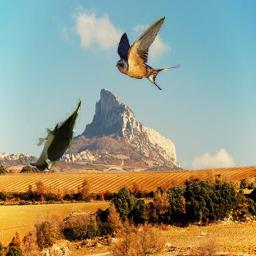Cuckoo: (28, 98, 81, 171)
Swallow: (116, 16, 180, 90)
